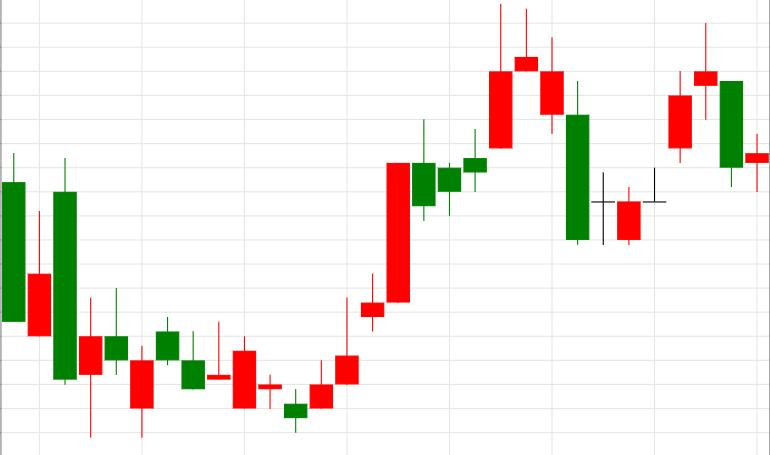evening_star_fall: (591, 22, 743, 246)
